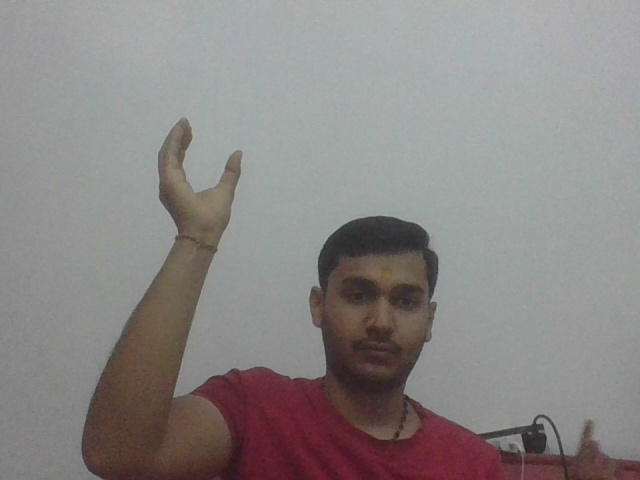U: (151, 114, 251, 231)
